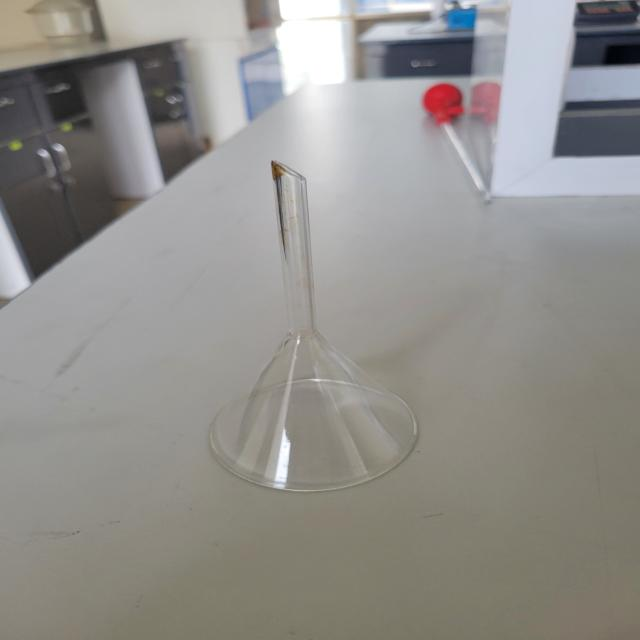Funnel: (157, 129, 462, 512)
